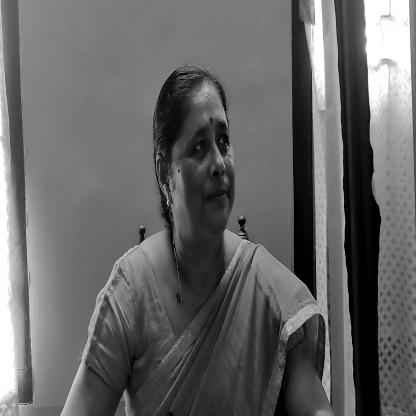Distracted: (152, 60, 242, 256)
